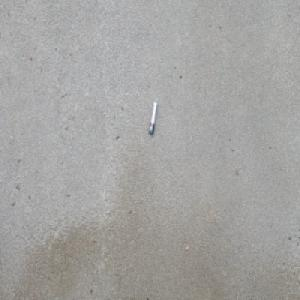Battery: (148, 101, 157, 136)
